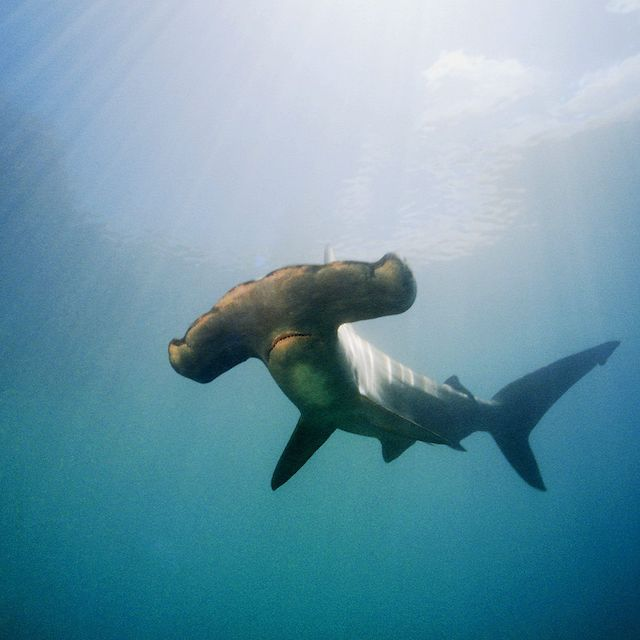hammerhead: (166, 240, 607, 494)
